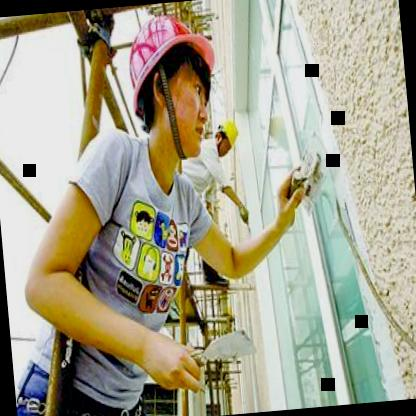helmet: (120, 1, 235, 175)
